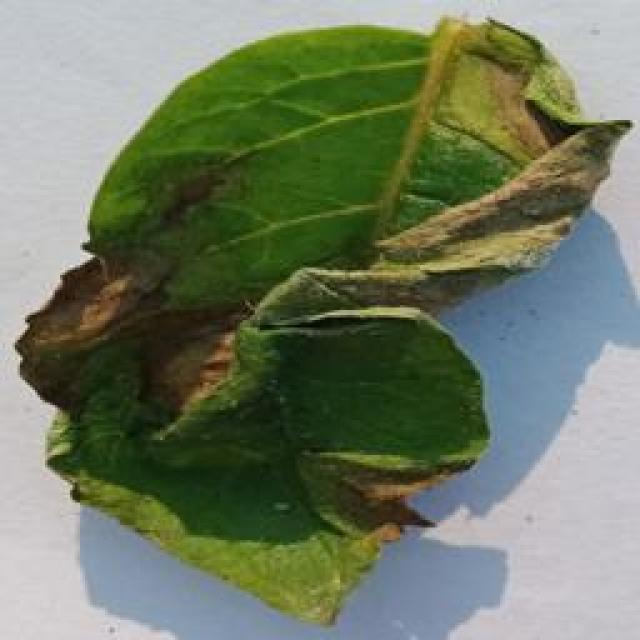Potato_Late_Blight: (19, 13, 619, 629)
